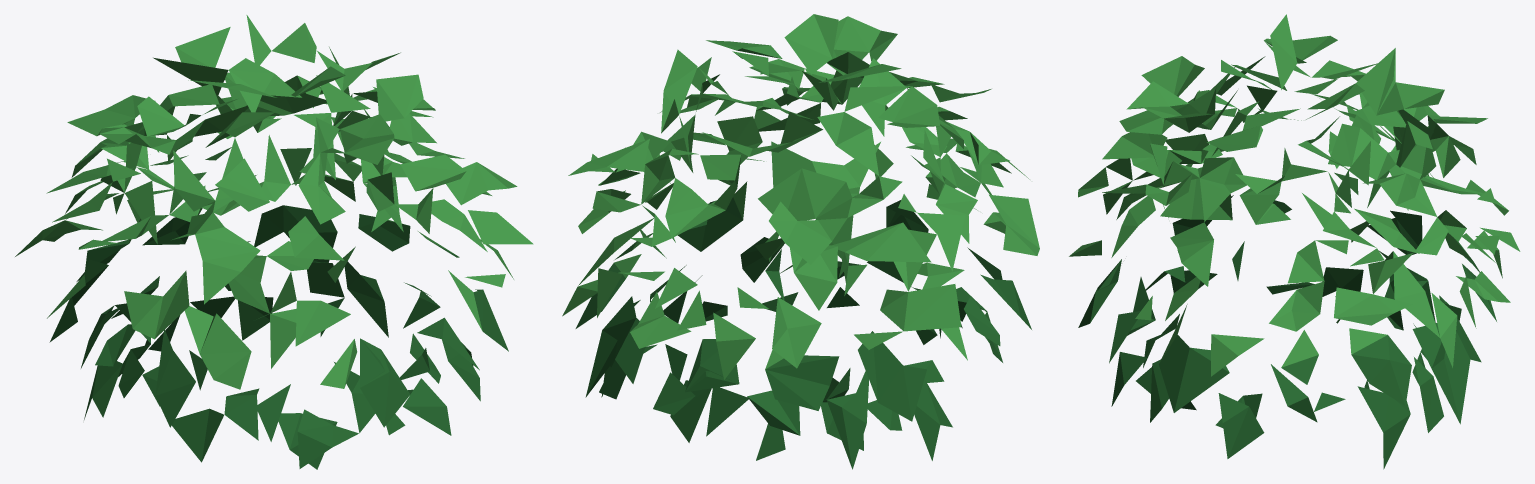
Rendered from bush-3.glb.
The picture shows the model from 3 angles, left to right: view 1: azimuth 30°, elevation 25°; view 2: azimuth 150°, elevation 25°; view 3: azimuth 270°, elevation 25°; orthographic projection. The views are drawn at different scales.
Parts seen in each view (by area): view 1: output_unwrapped; view 2: output_unwrapped; view 3: output_unwrapped.
Part boxes in pixels (x1,y1,x2,y2): output_unwrapped: (15,15,533,469); output_unwrapped: (562,14,1039,469); output_unwrapped: (1069,14,1520,469).
Bounding box in the file's own units: 1.6 × 1.31 × 1.57.
